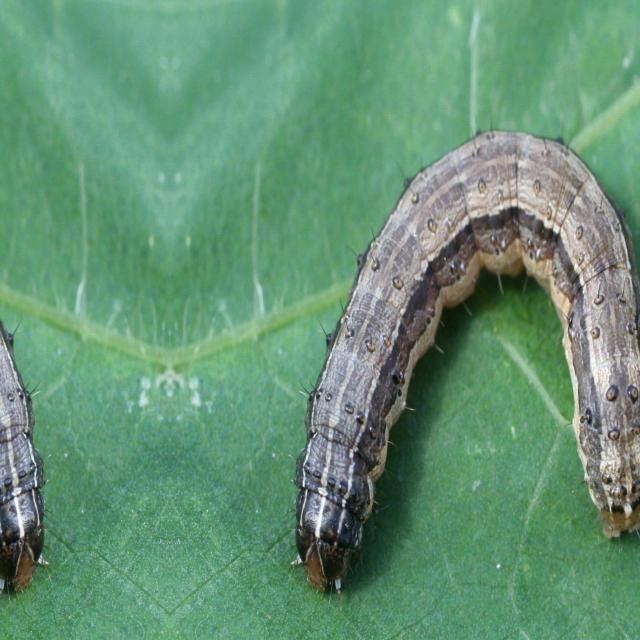Armyworm: (274, 137, 640, 605), (1, 285, 52, 627)
